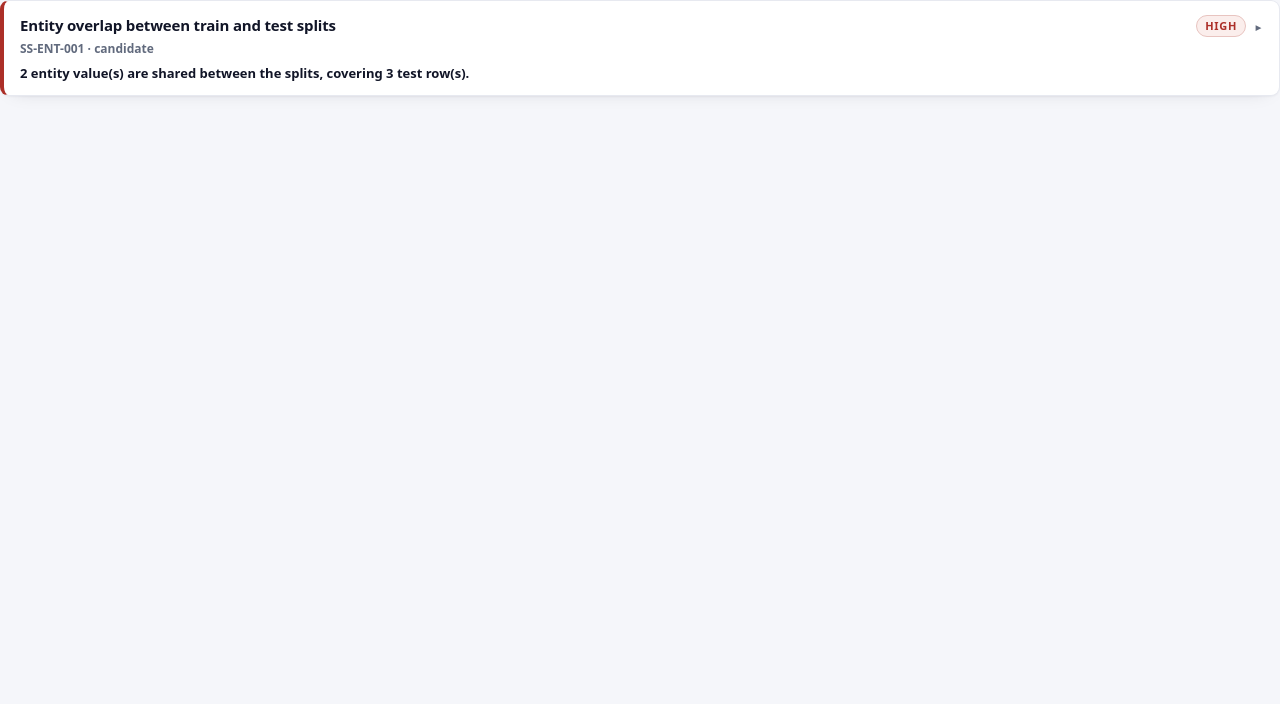
Test: collapsed and expanded evidence › says when examples were truncated to the configured maximum
Click the button "Entity overlap between train and test splits" at (178, 25), box left=20, top=13, right=1184, bottom=83
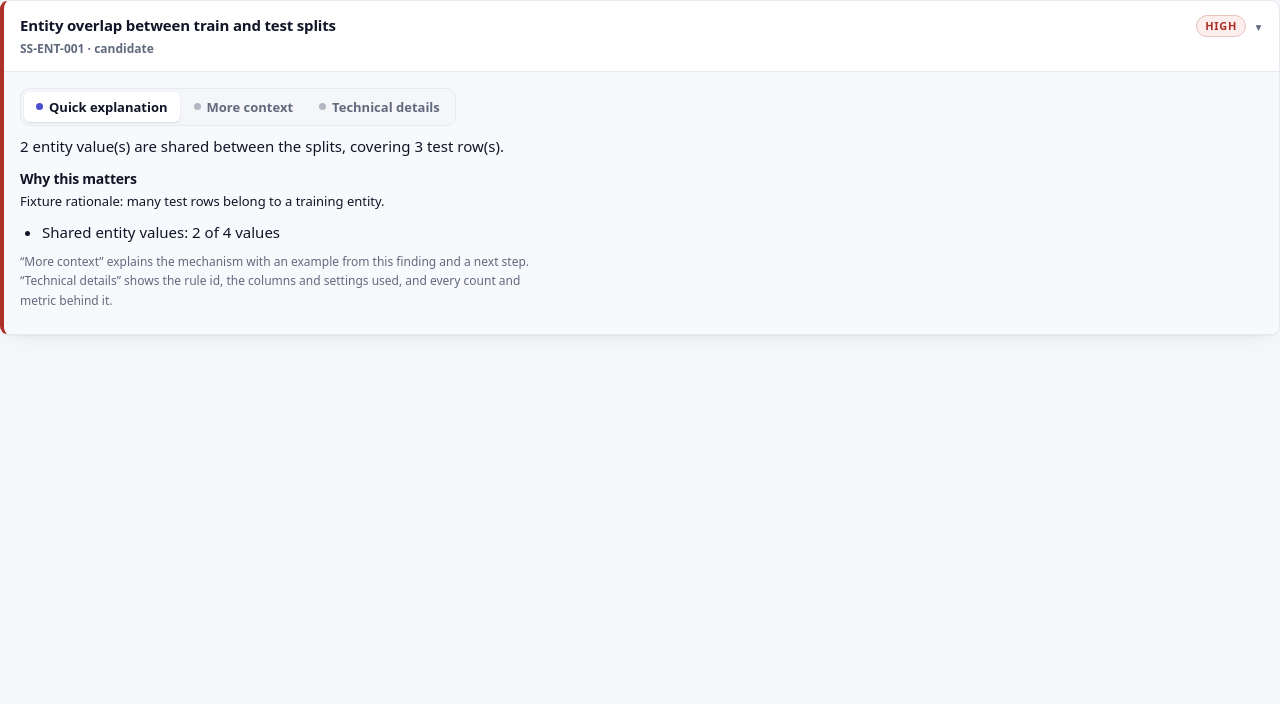
Click the button "Technical details" at (379, 107), box left=307, top=92, right=452, bottom=122
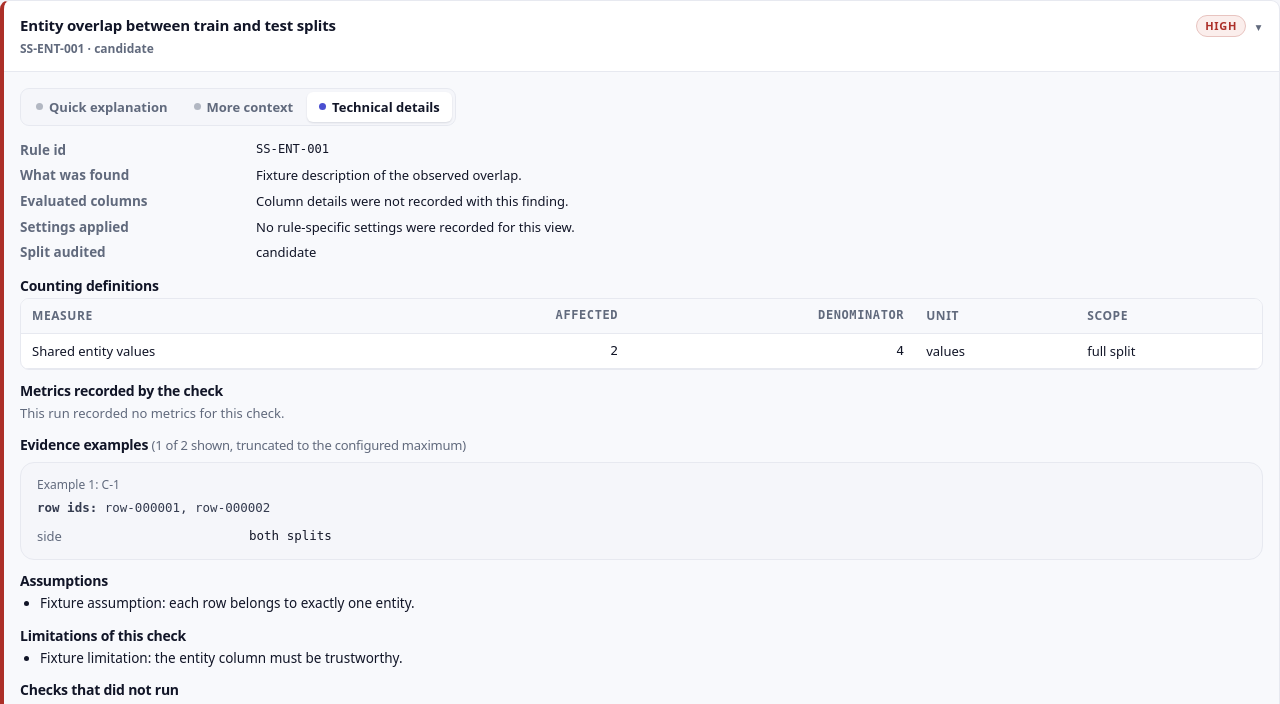
Expected: the text "(1 of 2 shown, truncated to the configured maximum)" is shown, left=152, top=436, right=466, bottom=454
